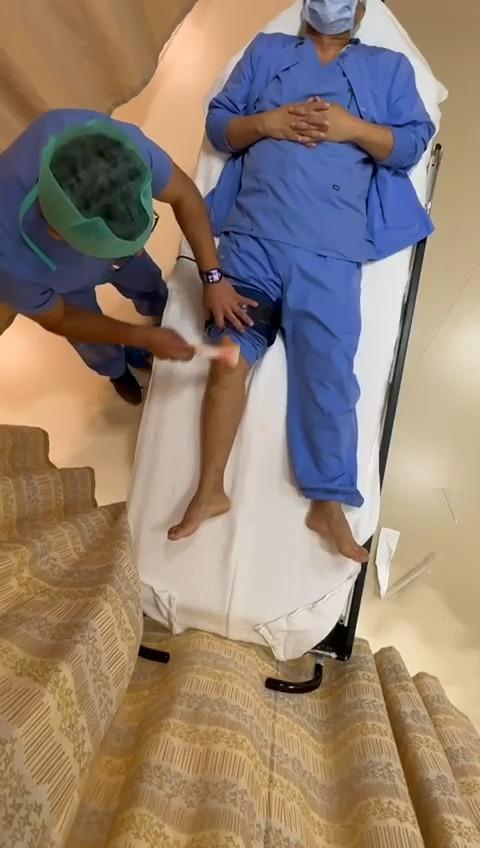bed: (105, 0, 446, 669)
patient: (169, 0, 436, 561)
prepstick: (192, 339, 238, 363)
tourniquet: (234, 287, 282, 345)
